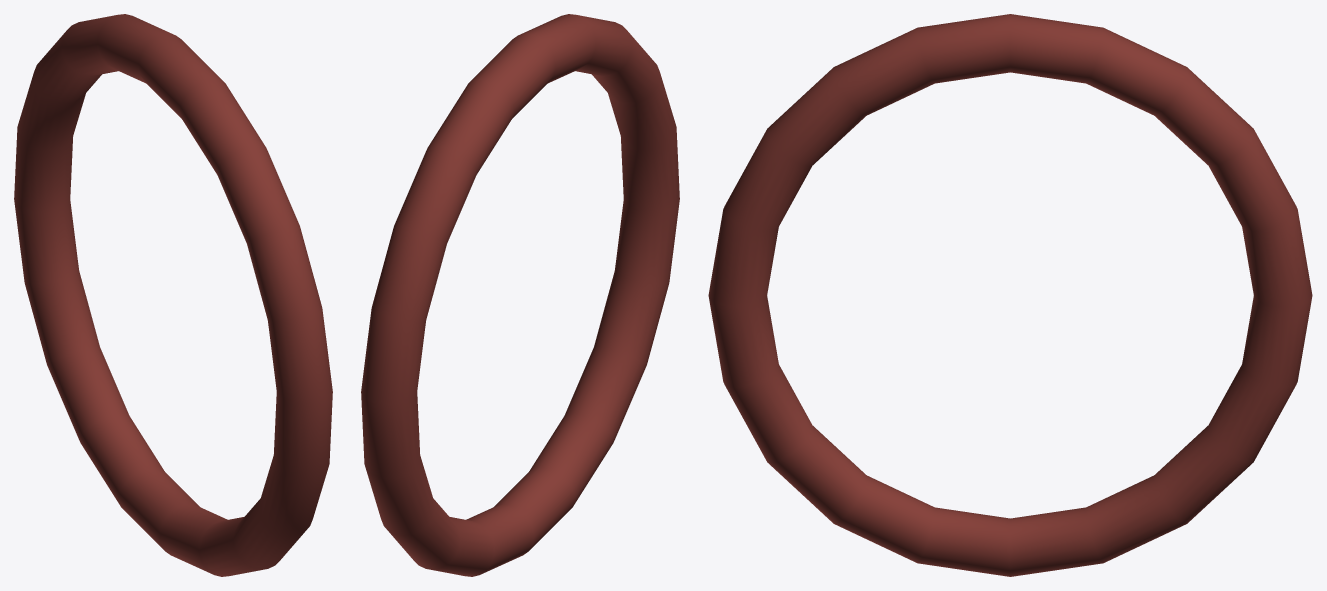
Rendered from cIRLCE.fbx.
3 views of the same model, side by side, from view 1: azimuth 30°, elevation 25°; view 2: azimuth 150°, elevation 25°; view 3: azimuth 270°, elevation 25° (orthographic). The views are drawn at different scales.
Visible parts, largest first — view 1: pTorus8; view 2: pTorus8; view 3: pTorus8.
Part boxes in pixels (left/top/right/bottom): pTorus8: left=14, top=14, right=332, bottom=576; pTorus8: left=361, top=14, right=679, bottom=576; pTorus8: left=708, top=14, right=1312, bottom=576.
Bounding box in the file's own units: 23.09 × 166 × 166.
